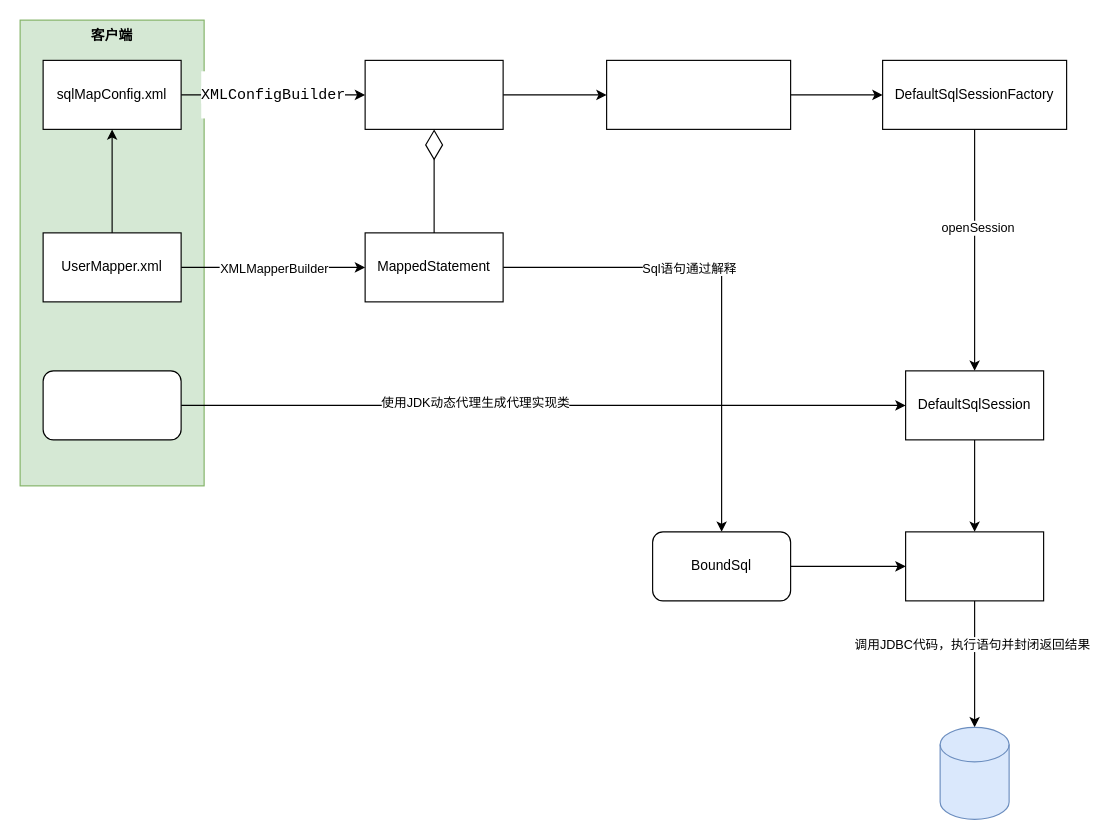
Image size: 1110x840. Some labels were removed from this diagram. Here are the shapes that lost their labels. From the top down, the centre of each, then its label:
At point 433,94: "Configuration".
At point 698,94: "SqlSessionFactoryBuilder".
At point 111,405: "IUserDao".
At point 974,566: "SimpleExcutor".
